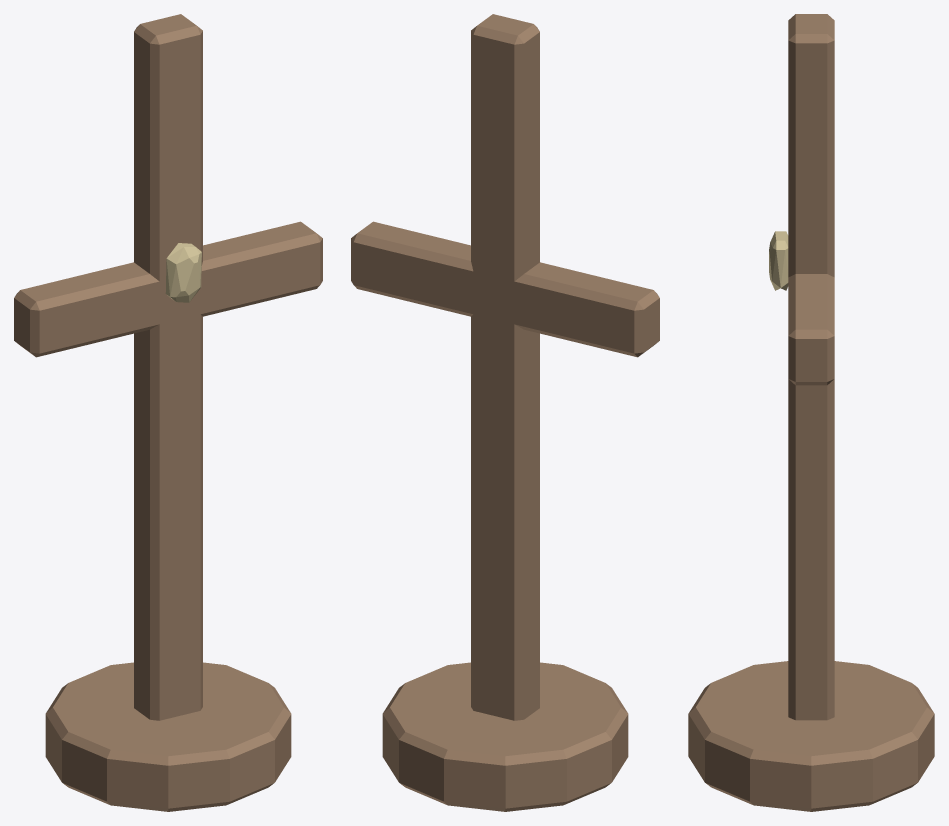
The model's file is SM_Crucifix.fbx.
3 renders of one model, left to right at view 1: azimuth 30°, elevation 25°; view 2: azimuth 150°, elevation 25°; view 3: azimuth 270°, elevation 25°, orthographic.
Parts seen in each view (by area): view 1: Crucifix; view 2: Crucifix; view 3: Crucifix.
Boxes of the visible parts, left/top/right/bottom form: Crucifix: left=14, top=14, right=322, bottom=811; Crucifix: left=351, top=14, right=659, bottom=811; Crucifix: left=688, top=14, right=934, bottom=811.
Bounding box in the file's own units: 22 × 53 × 16.
